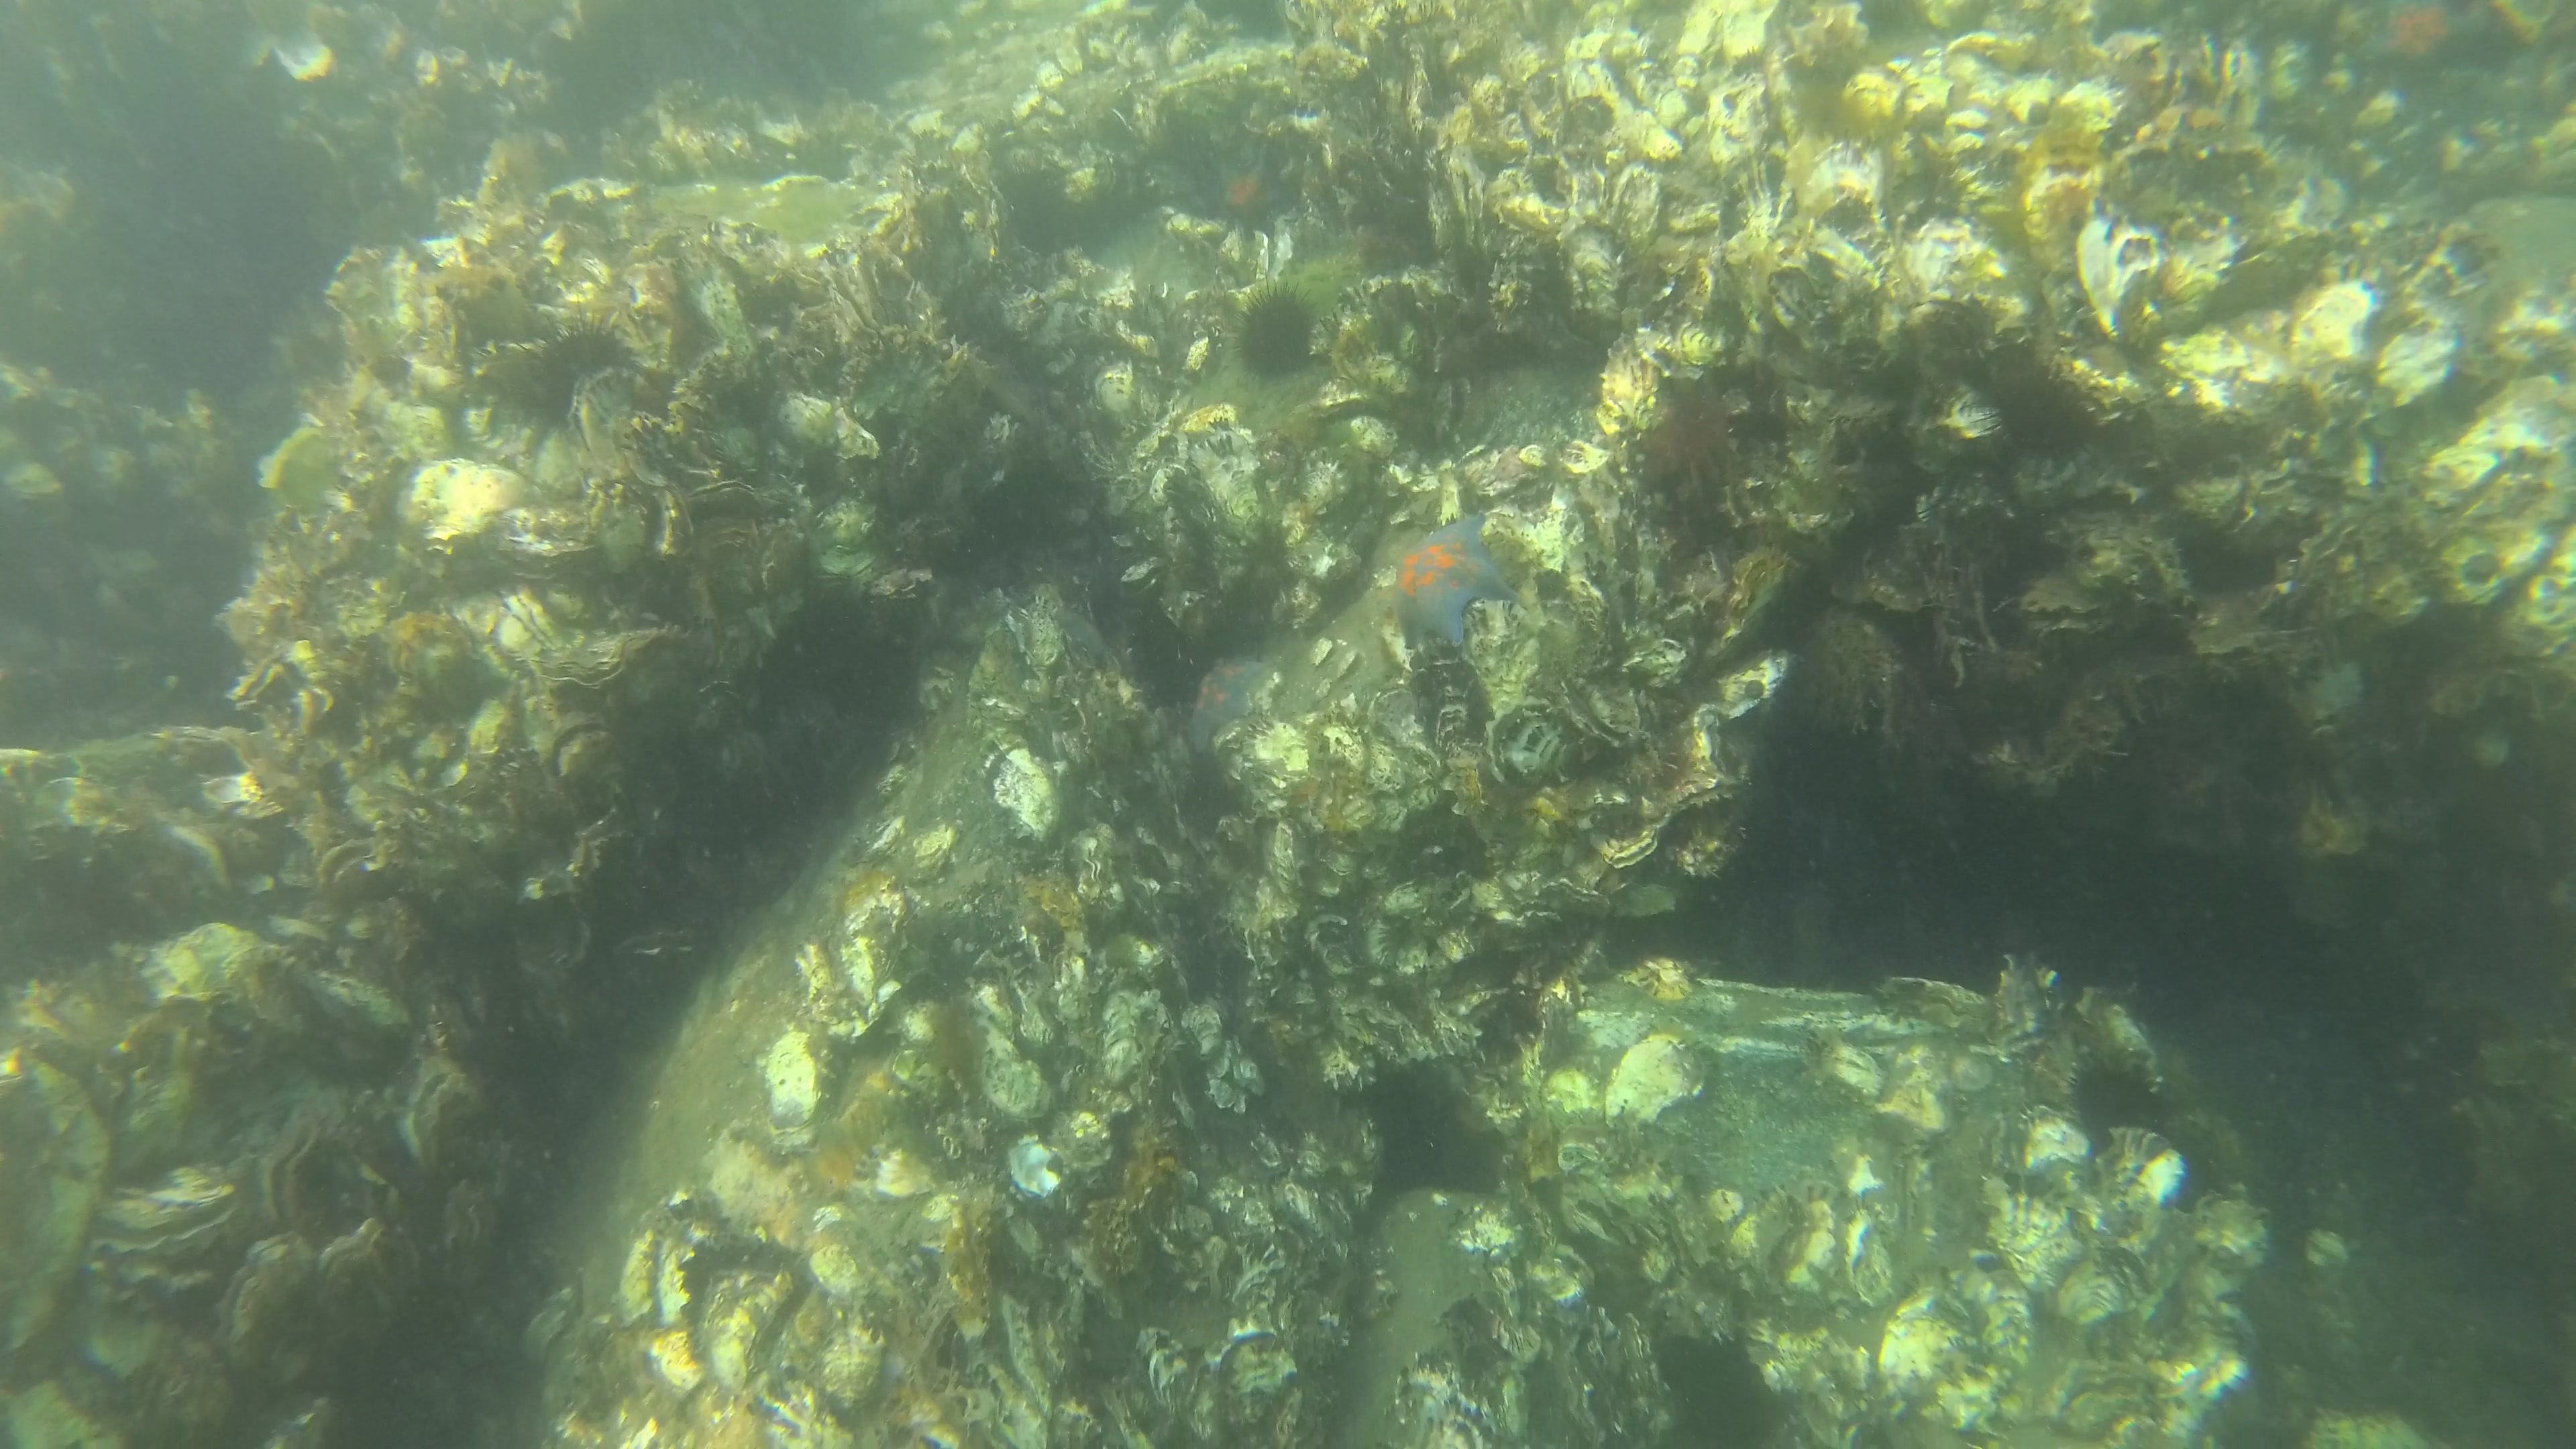echinus: (2068, 1054, 2173, 1143), (1237, 287, 1318, 379)
starfish: (1387, 522, 1509, 644), (2365, 5, 2477, 69), (1191, 662, 1274, 731), (1212, 165, 1281, 214)
